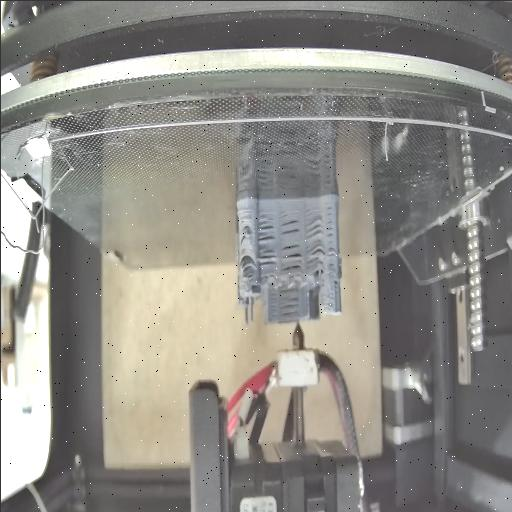cracks: (276, 286, 300, 320), (280, 240, 301, 270), (278, 210, 299, 236), (324, 203, 332, 267), (257, 214, 275, 242), (304, 216, 324, 238), (306, 245, 324, 267), (257, 248, 275, 270), (238, 255, 250, 273), (238, 232, 246, 250), (330, 278, 338, 292)
